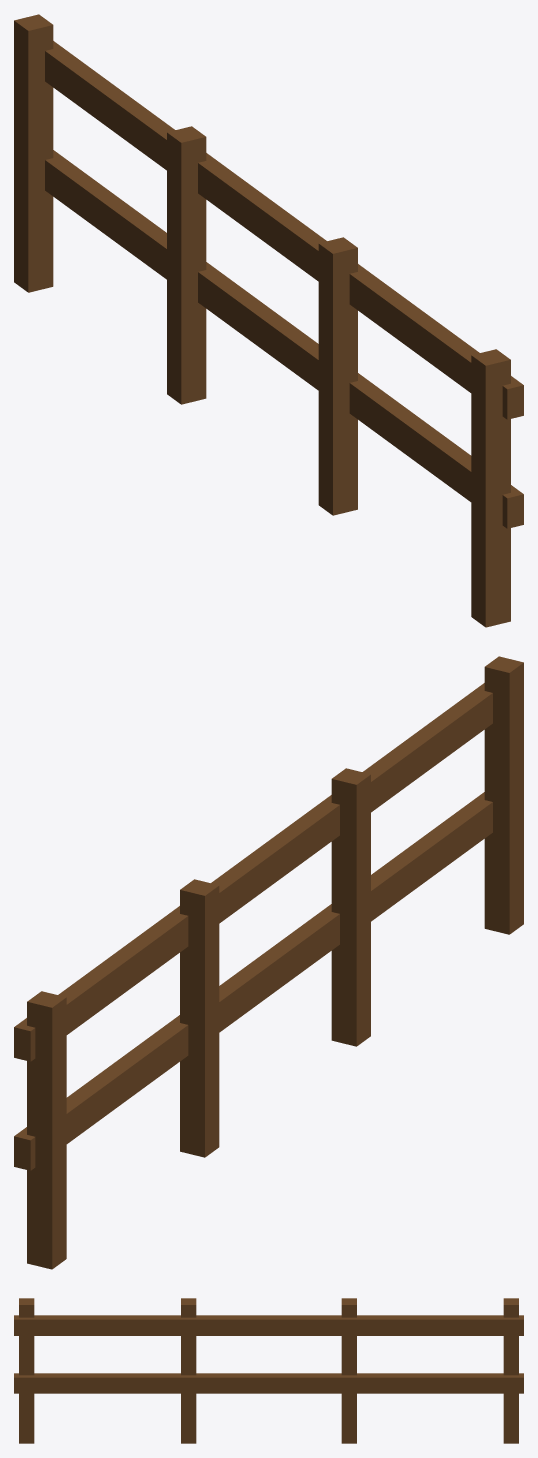
Rendered from cerco_madera.obj.
3 views of the same model, one above another, from view 1: azimuth 30°, elevation 25°; view 2: azimuth 150°, elevation 25°; view 3: azimuth 270°, elevation 25° (orthographic). The views are drawn at different scales.
Visible parts, largest first — view 1: cerco_madera; view 2: cerco_madera; view 3: cerco_madera.
Boxes of the visible parts, x1=… form: cerco_madera: x1=14, y1=14, x2=523, y2=627; cerco_madera: x1=14, y1=656, x2=523, y2=1269; cerco_madera: x1=14, y1=1298, x2=523, y2=1443.
Bounding box in the file's own units: 0.16 × 1.2 × 4.
